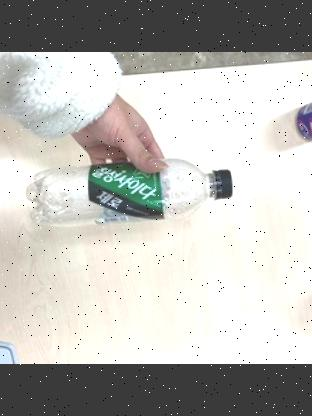Plastic Bottle: (21, 155, 236, 229)
